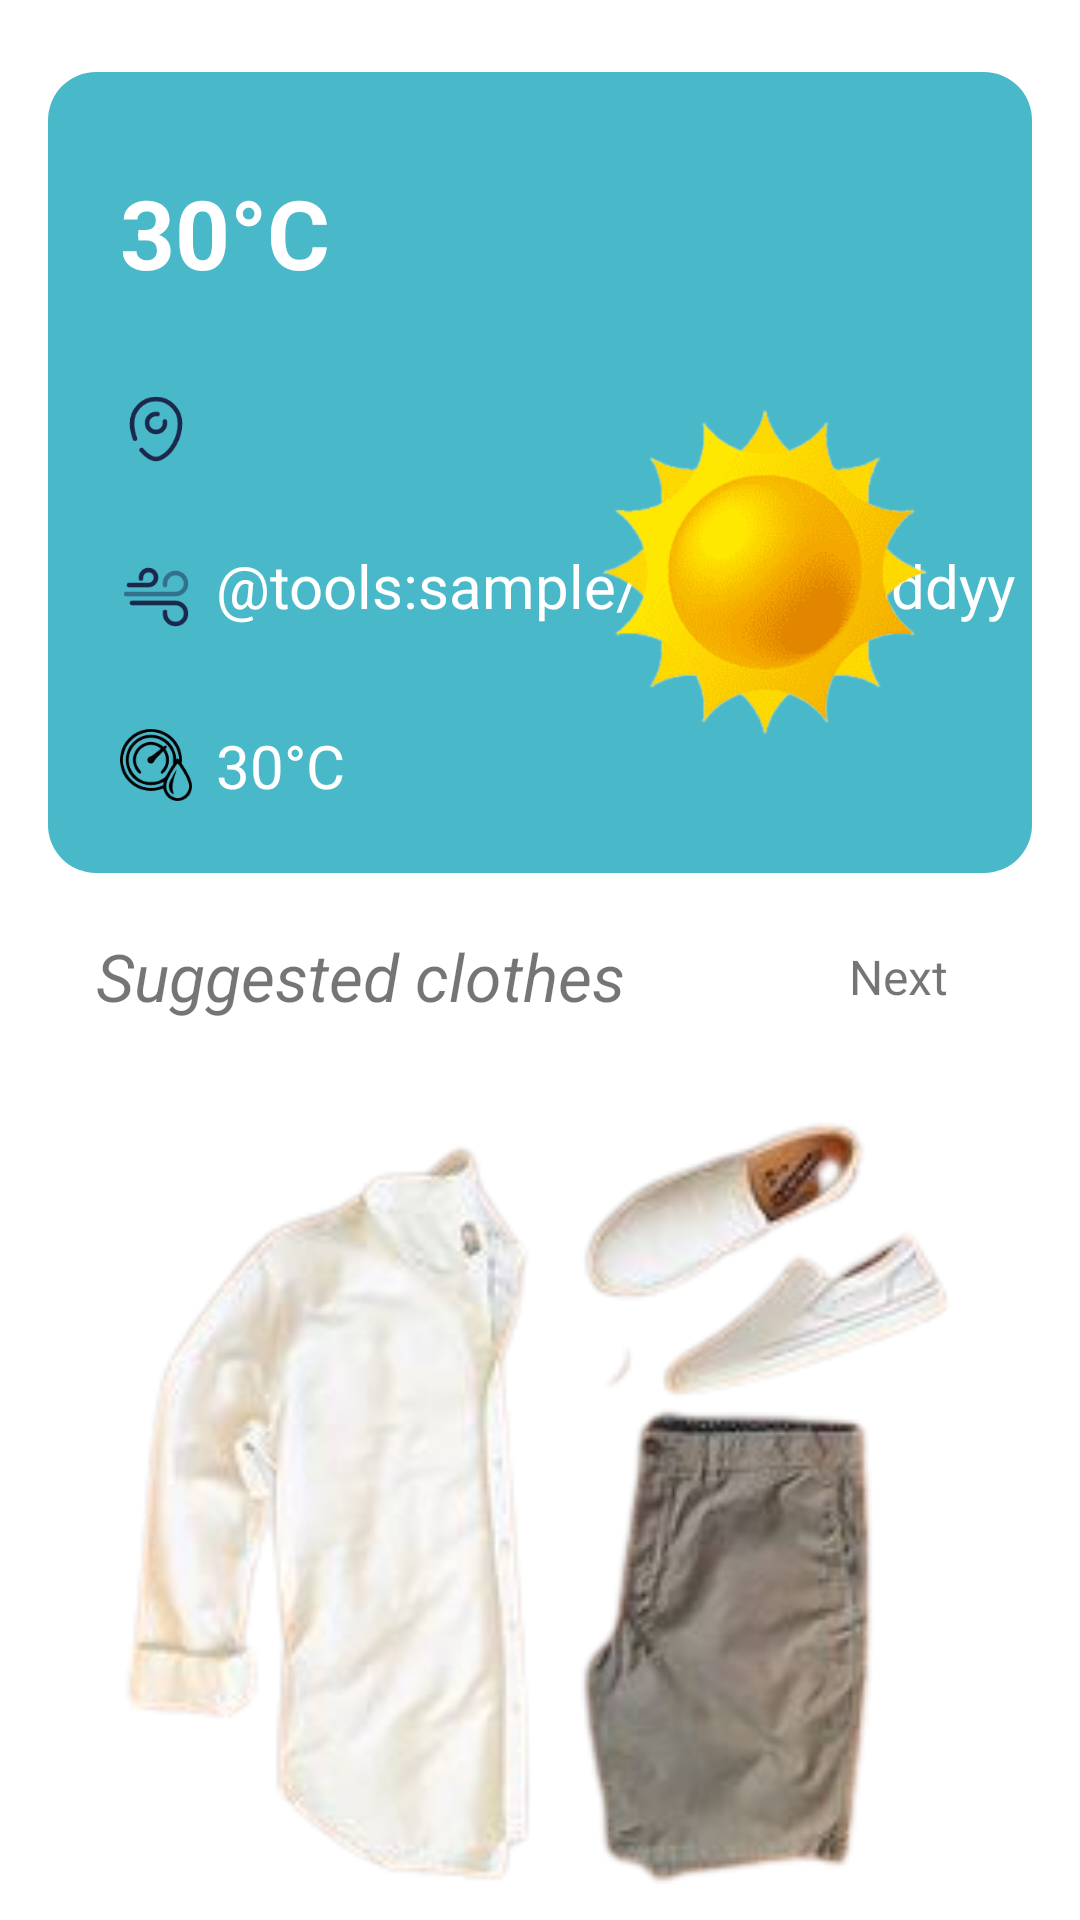

Icon click points for this 1080px×1920px phone screenshot, format (x,y):
humidity: (156,765)
map point: (156,429)
wind: (156,597)
